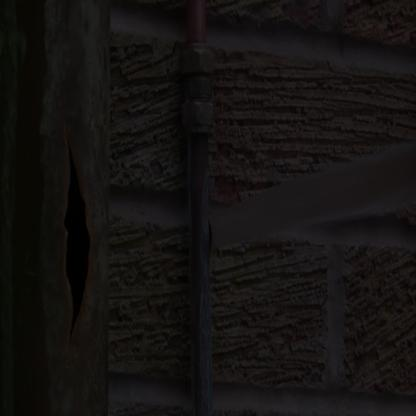burst: (48, 141, 105, 322)
